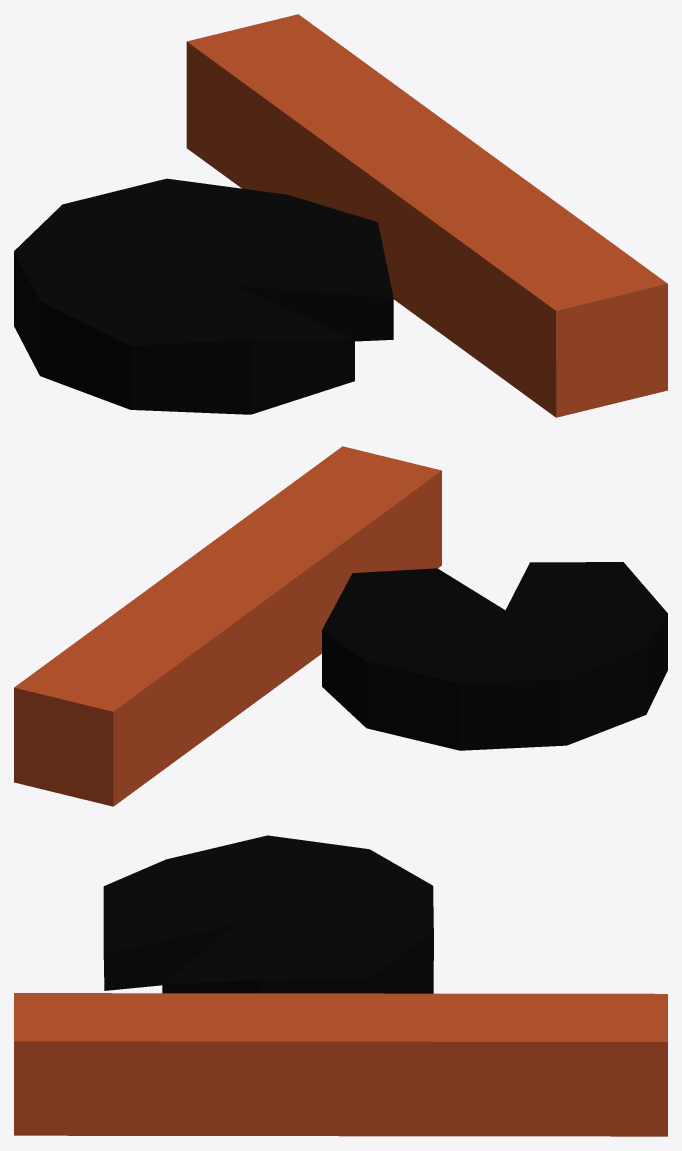
The model's file is 3D.TroncoENinfea.fbx.
3 views of the same model, one above another, from view 1: azimuth 30°, elevation 25°; view 2: azimuth 150°, elevation 25°; view 3: azimuth 270°, elevation 25° (orthographic). The views are drawn at different scales.
Parts seen in each view (by area): view 1: tronchetto, Ninfea; view 2: tronchetto, Ninfea; view 3: tronchetto, Ninfea.
Boxes of the visible parts, <box> form: tronchetto: <box>186,14,667,417</box>; Ninfea: <box>14,178,393,414</box>; tronchetto: <box>14,446,441,806</box>; Ninfea: <box>322,562,667,750</box>; tronchetto: <box>14,993,667,1136</box>; Ninfea: <box>103,835,433,993</box>.
Size of the model in its own units: 244 by 51.68 by 322.
